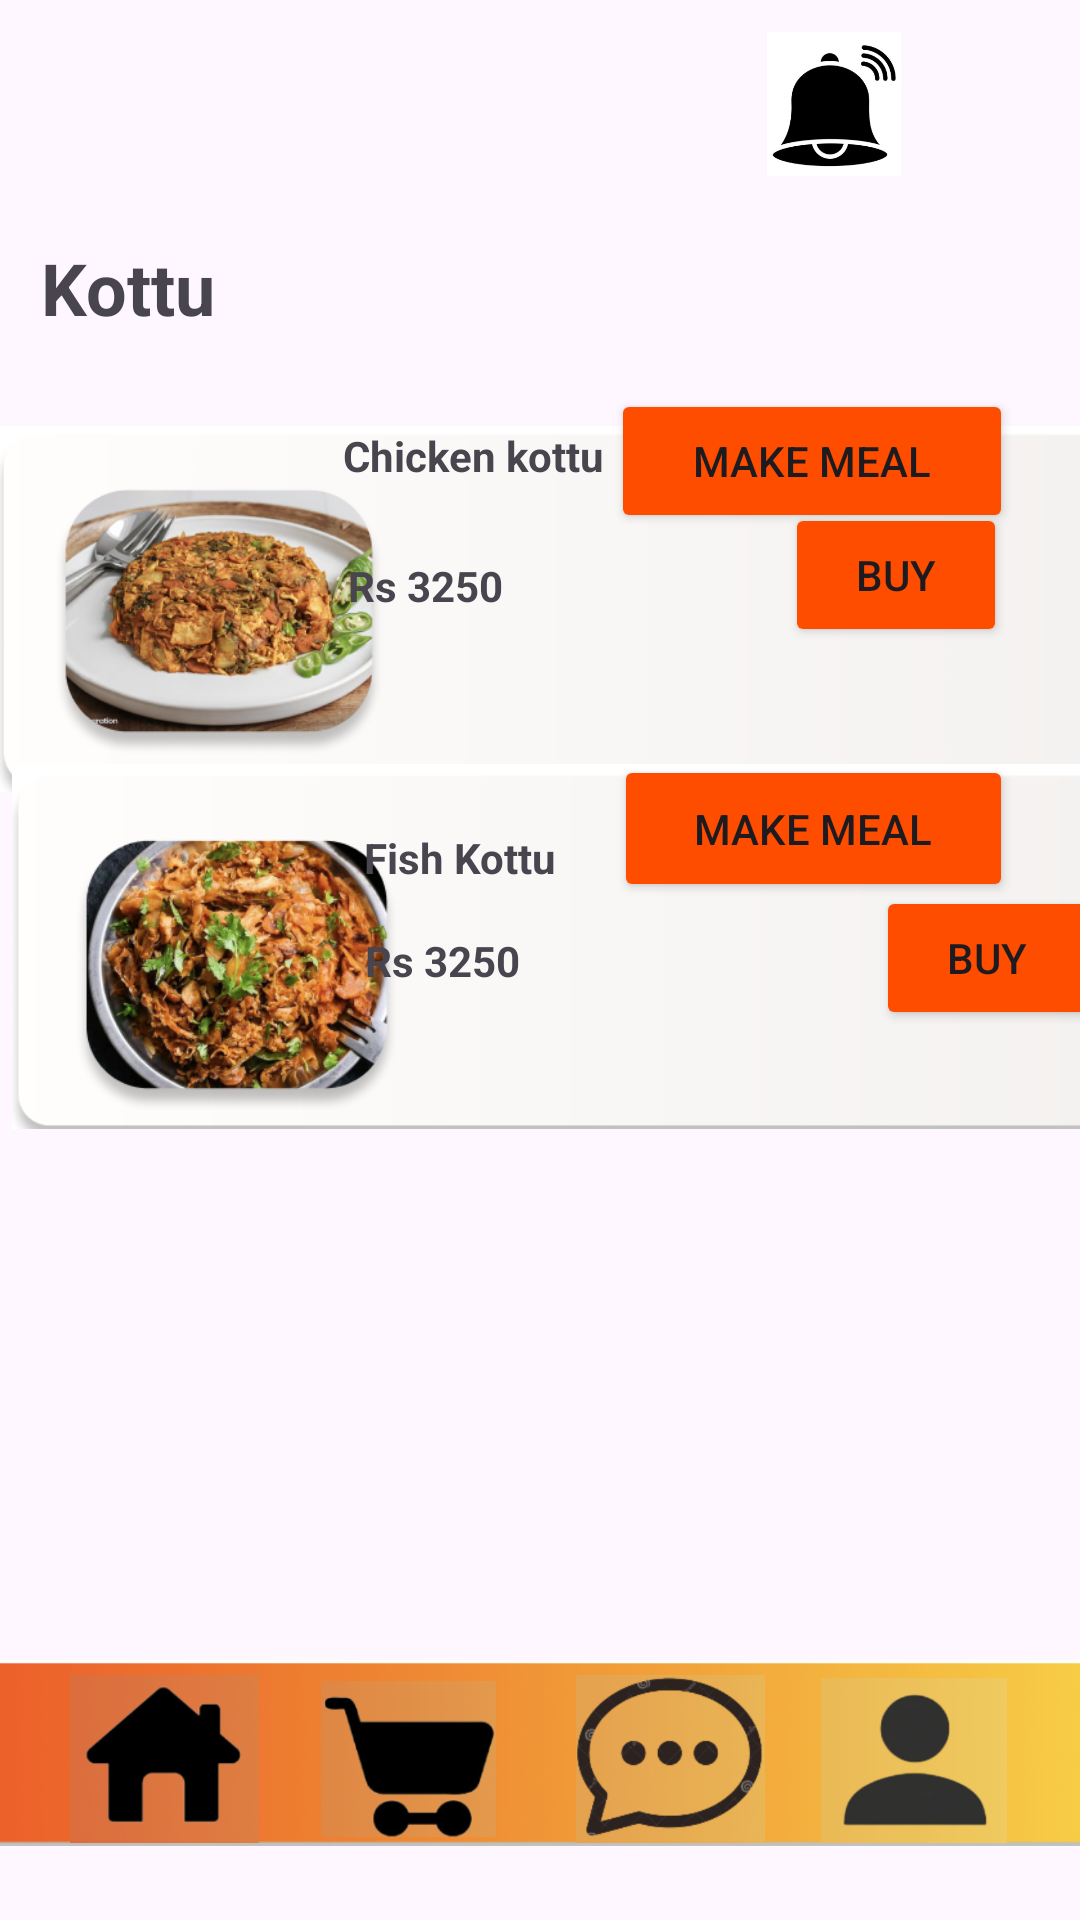

Screen size 1080 × 1920. Icon name, then its center in pixels as [x,y]:
go to account page: [914,1760]
go to cart page: [384,1759]
go to chat page: [670,1759]
go to home page: [164,1759]
go to notification page: [834,105]
